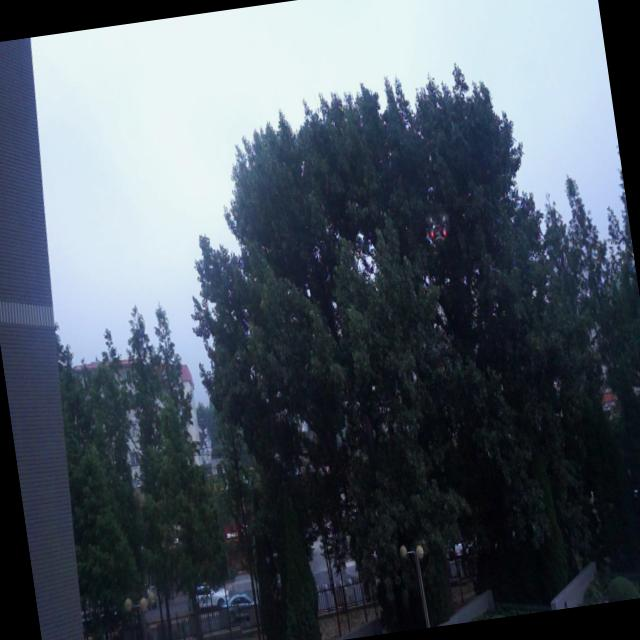drone: (421, 208, 452, 250)
